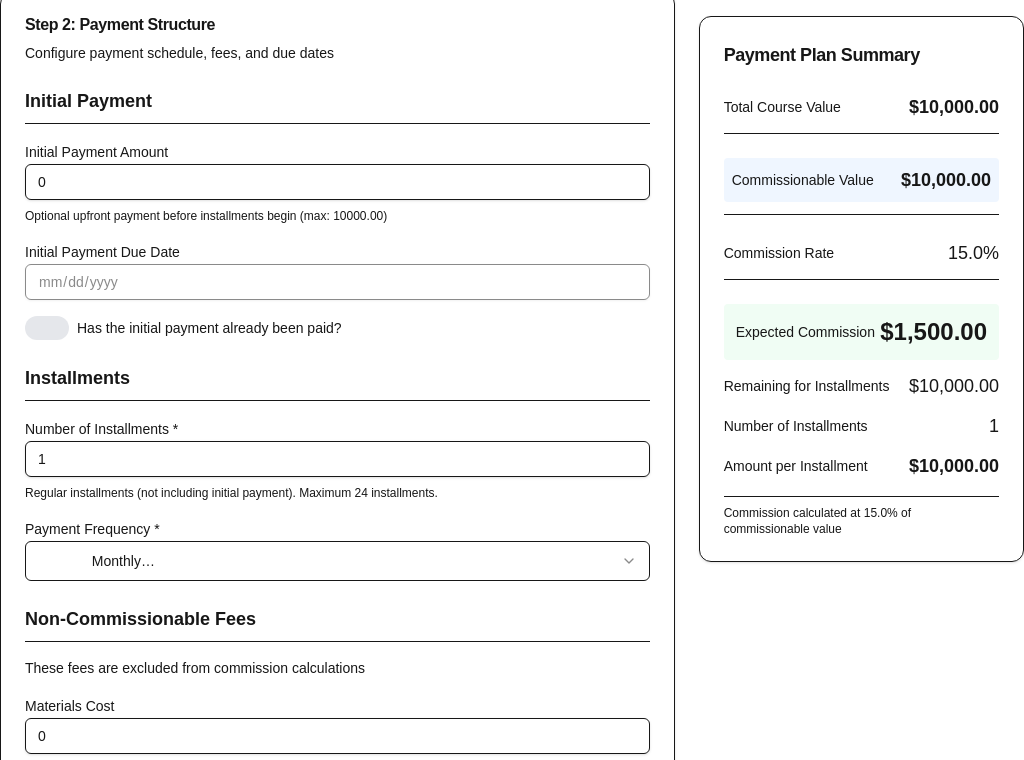
Test: PaymentPlanWizardStep2 › Form Validation › shows error when total fees equal or exceed course value
Set fees that equal course value
Replace the text in the number field labelled "Materials Cost" with "5000". click: [337, 736]
box: left=25, top=718, right=650, bottom=754
(page scrolled)
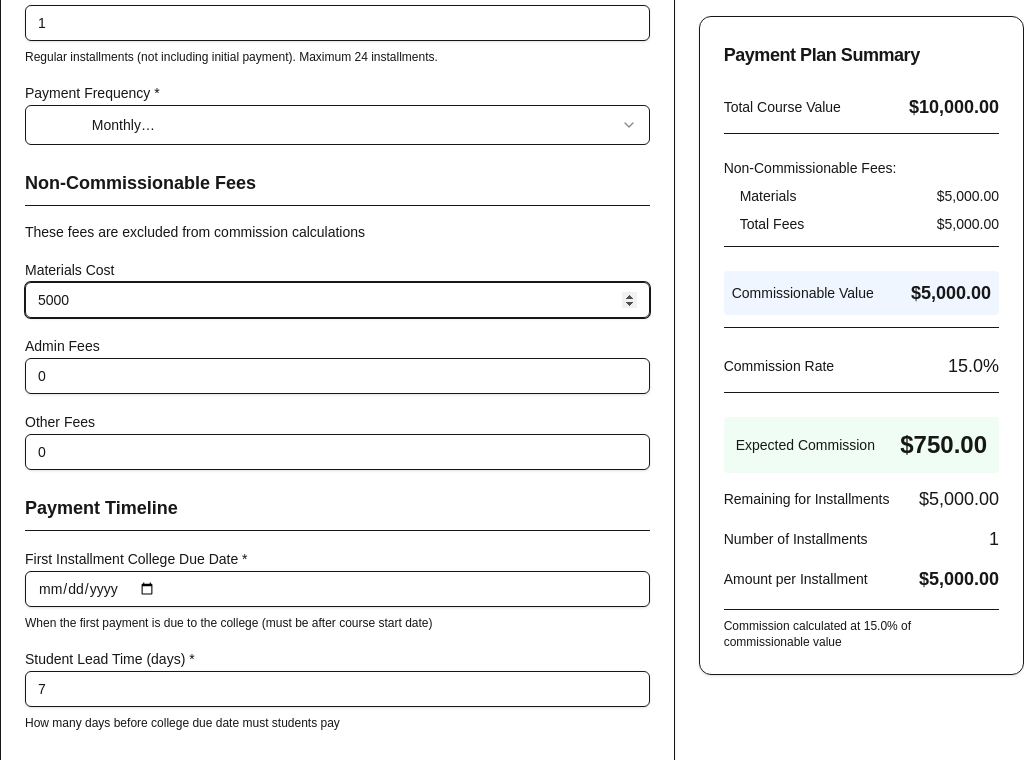
Replace the text in the number field labelled "Admin Fees" with "3000". click: [337, 376]
box: left=25, top=358, right=650, bottom=394
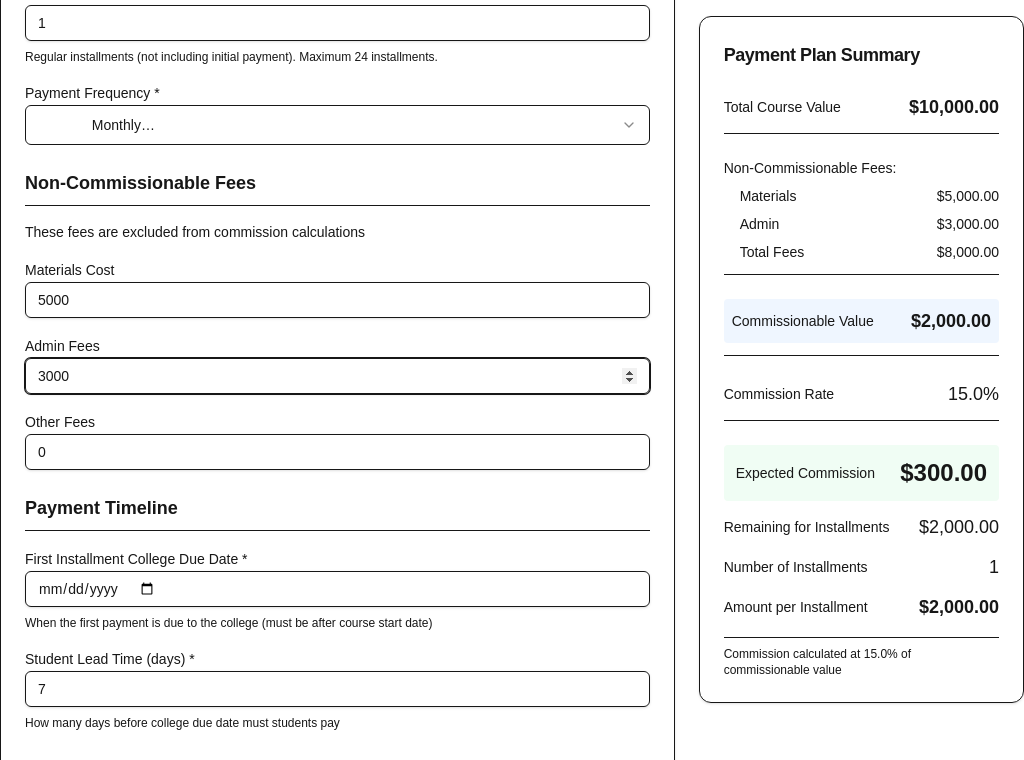
Replace the text in the number field labelled "Other Fees" with "2000". click: [337, 452]
box: left=25, top=434, right=650, bottom=470
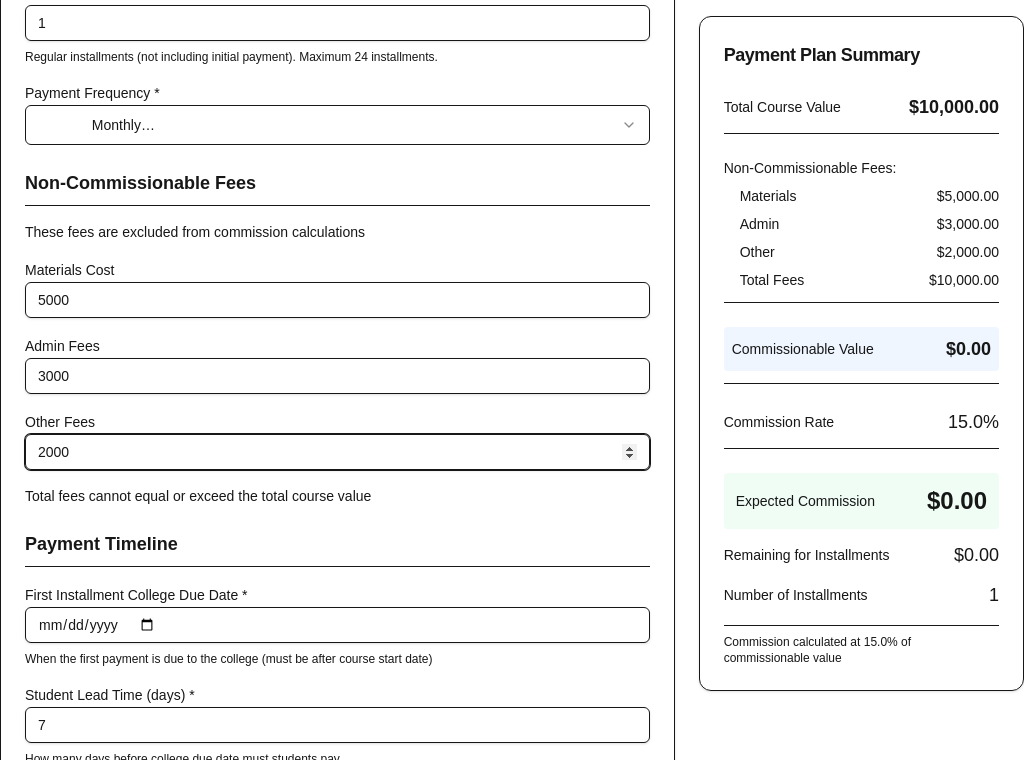
Check: the text "Total fees cannot equal or exceed the total course value" is shown, box left=25, top=488, right=371, bottom=504
